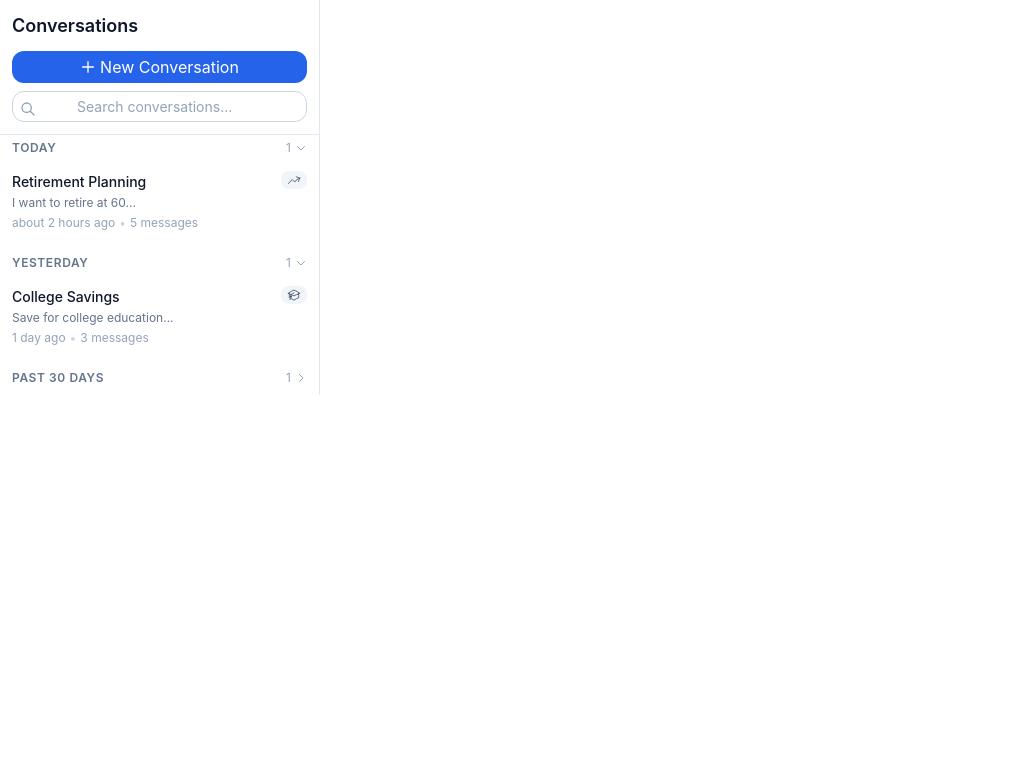
Test: ThreadSidebar › cancels deletion when cancelled
The width and height of the screenshot is (1024, 768).
Hover over the text "College Savings" at (160,316), box x1=4 y1=276 x2=315 y2=357
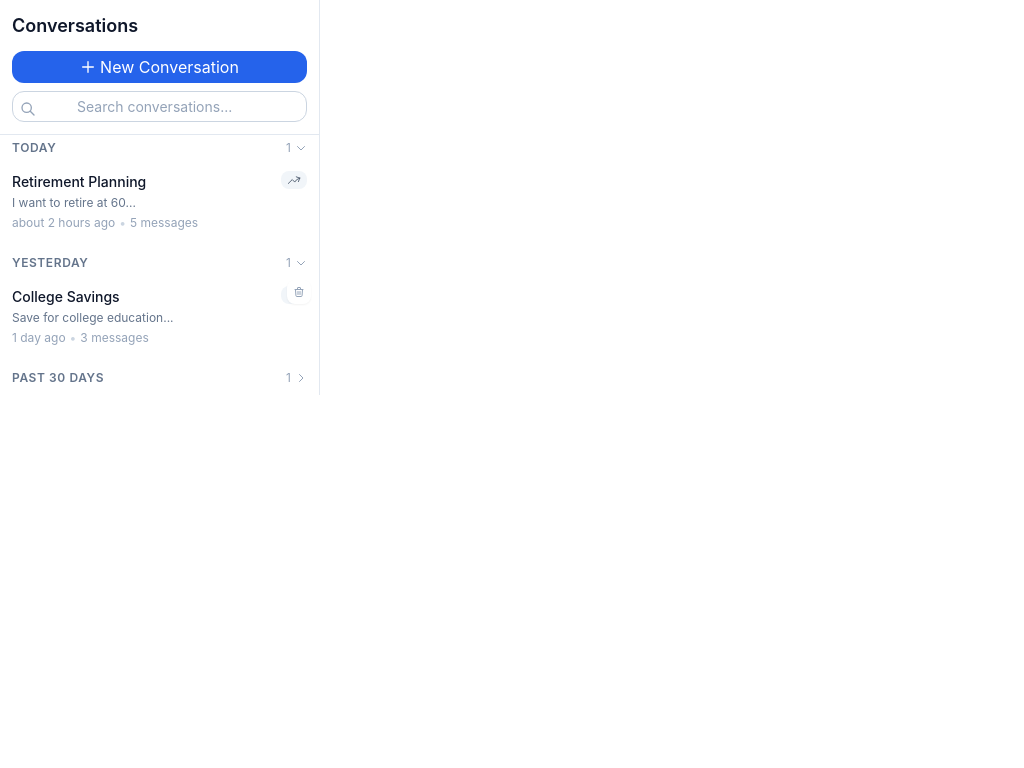
Click the button named "Delete conversation". click: (299,292)
box: x1=287 y1=280 x2=311 y2=304
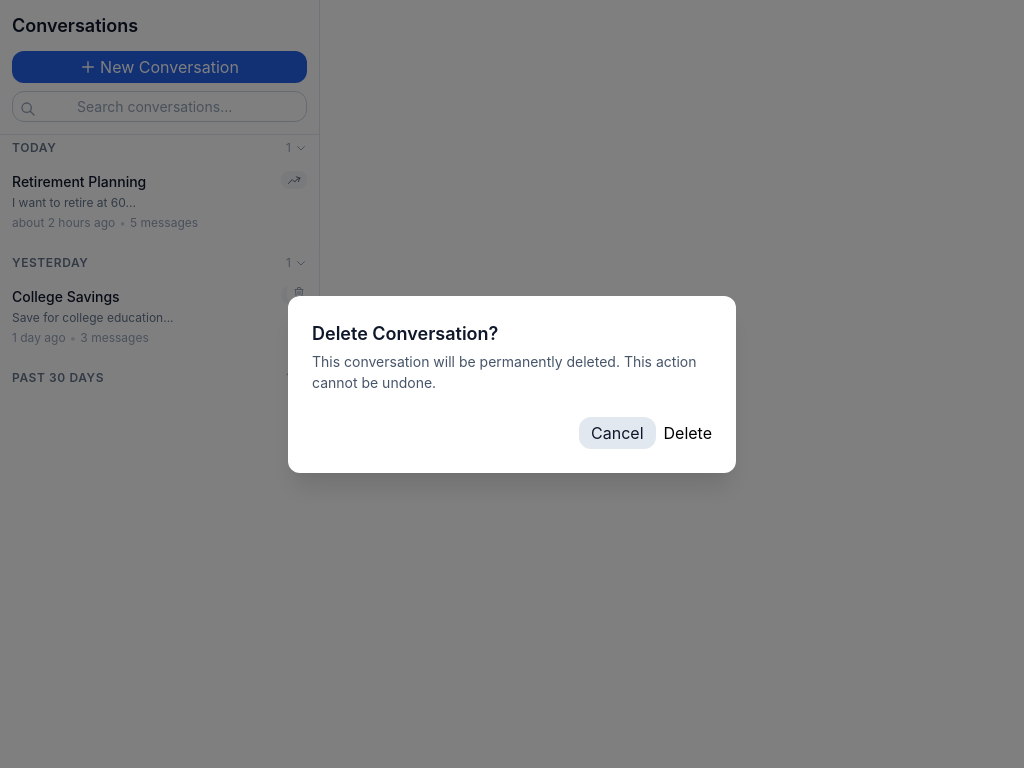
Note: Cancel deletion
Click the button "Cancel". click: (617,432)
box: x1=579 y1=416 x2=656 y2=448
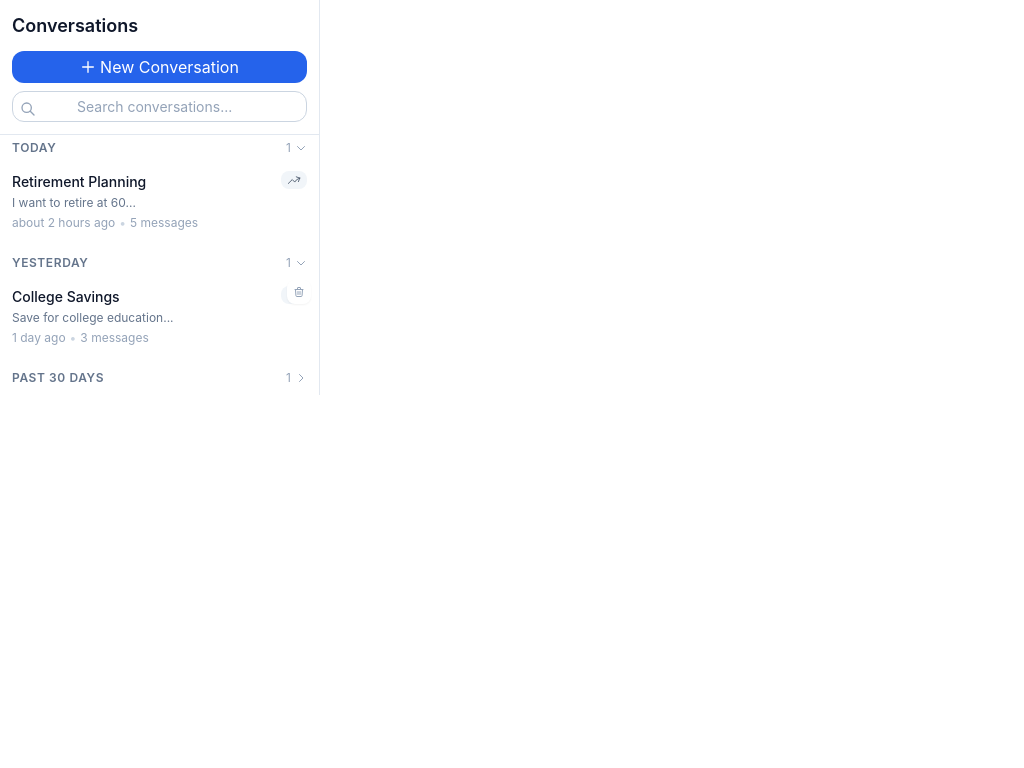
Check: the heading "Delete Conversation?" is gone
